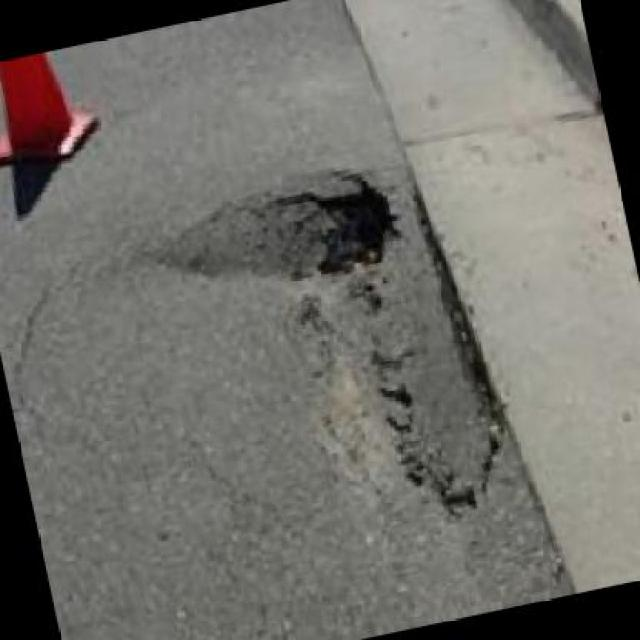pothole1: (327, 148, 530, 529), (147, 162, 410, 313)
